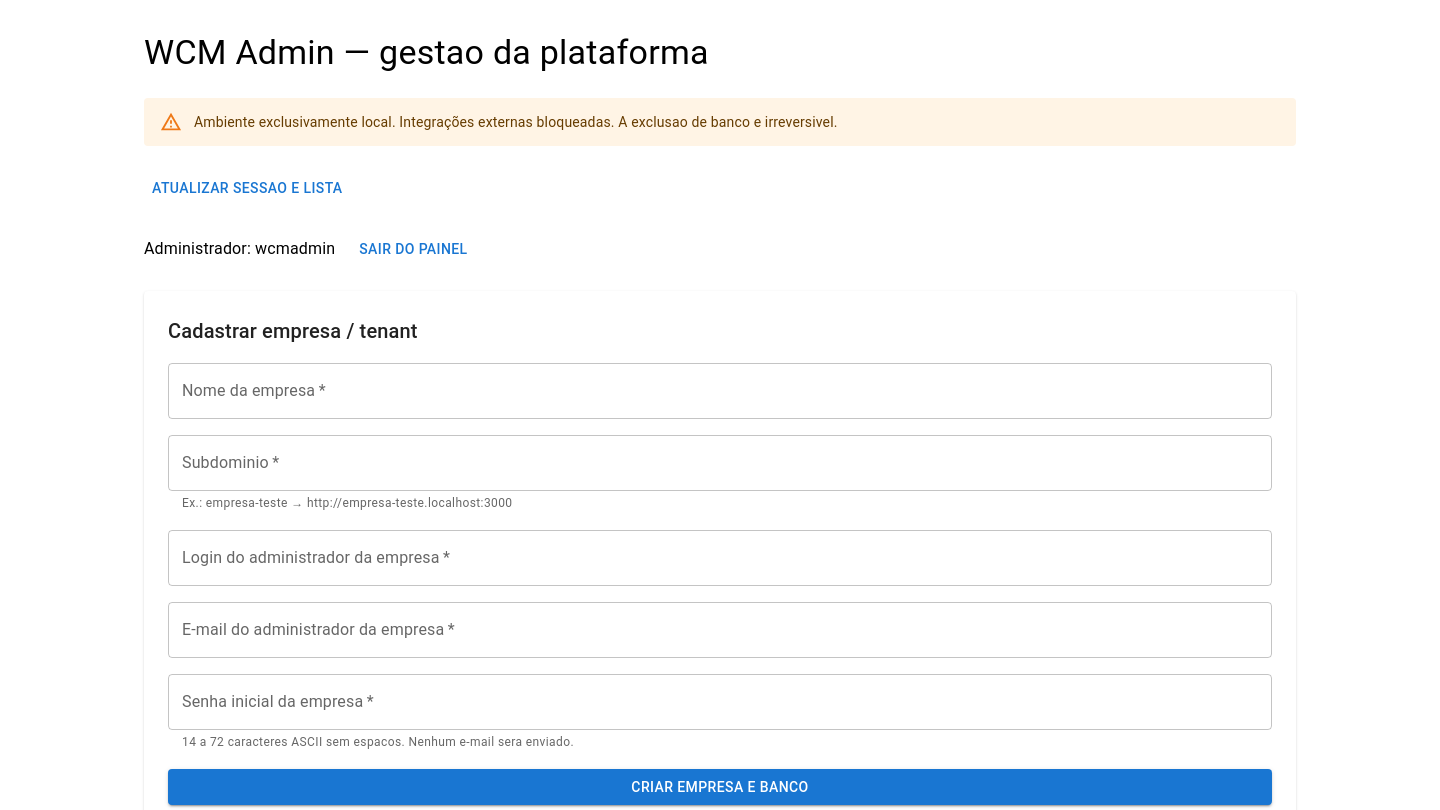
it: creates a tenant and sends its initial administrator without a tenant JWT
Expected: the button "Criar empresa e banco" is shown, x1=168 y1=769 x2=1272 y2=805
In the field labelled "Nome da empresa *": {"x": 720, "y": 391} x1=168 y1=363 x2=1272 y2=419, type "Nova Empresa"
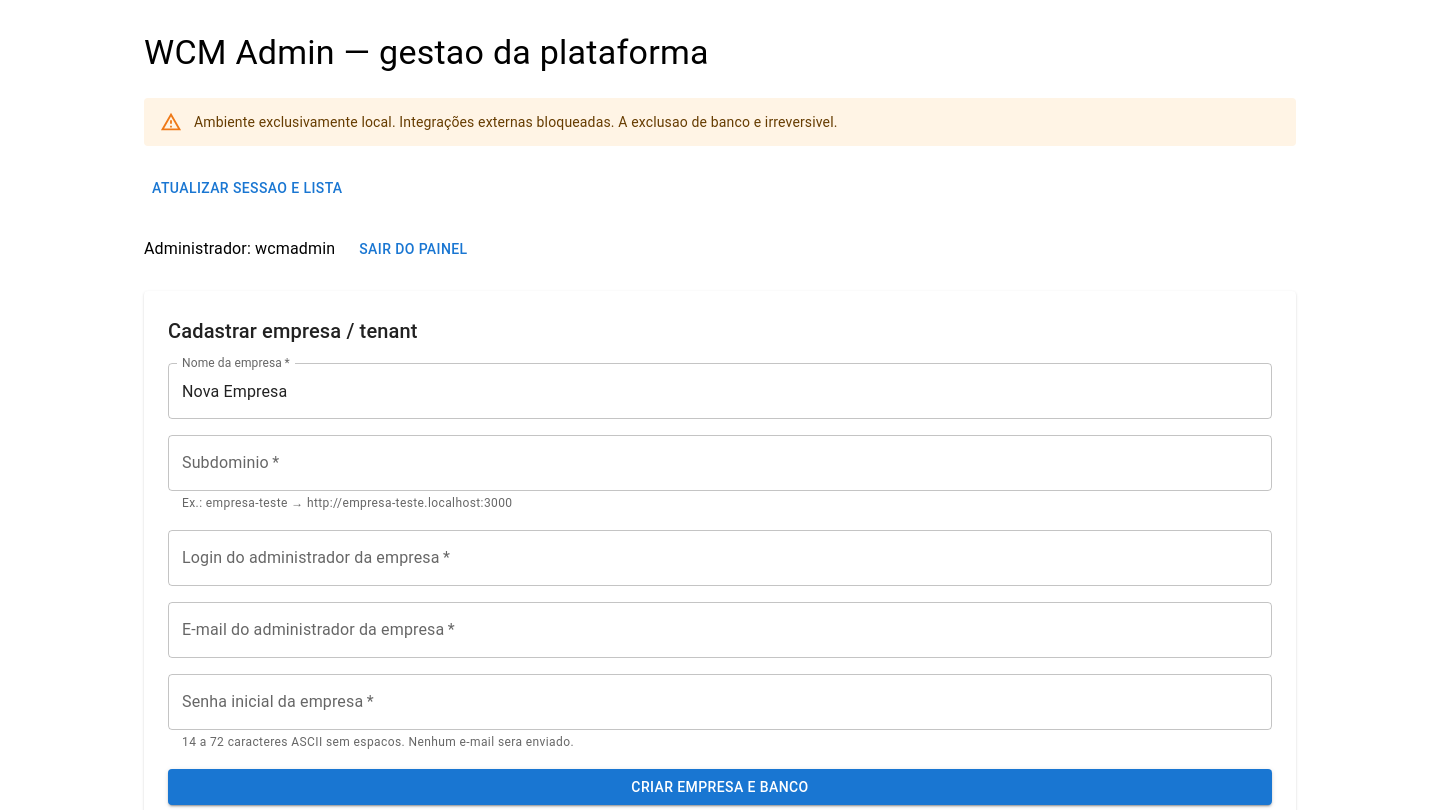
In the field labelled "Subdominio *": {"x": 720, "y": 463} x1=168 y1=435 x2=1272 y2=491, type "nova-empresa"
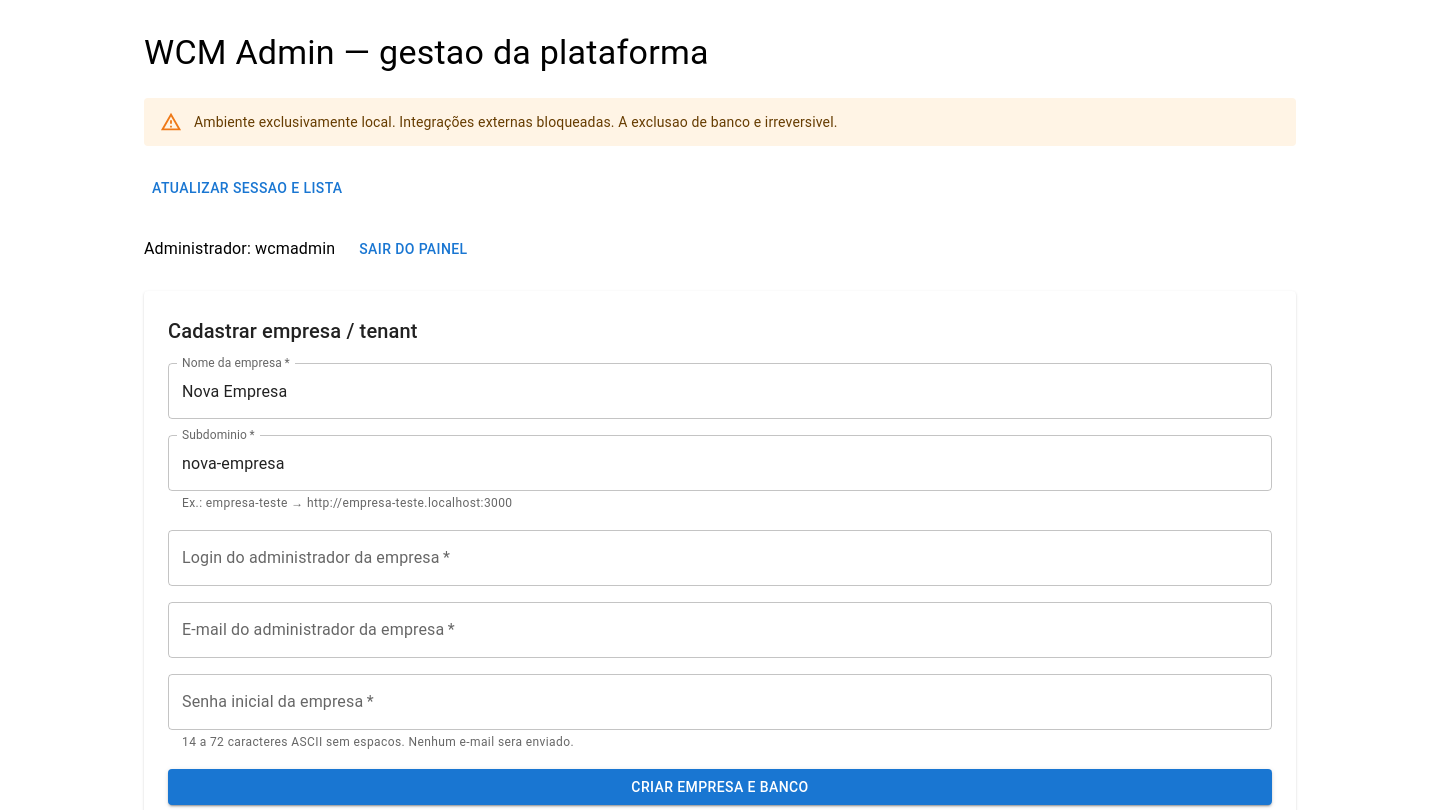
In the field labelled "Login do administrador da empresa *": {"x": 720, "y": 558} x1=168 y1=530 x2=1272 y2=586, type "gestor"
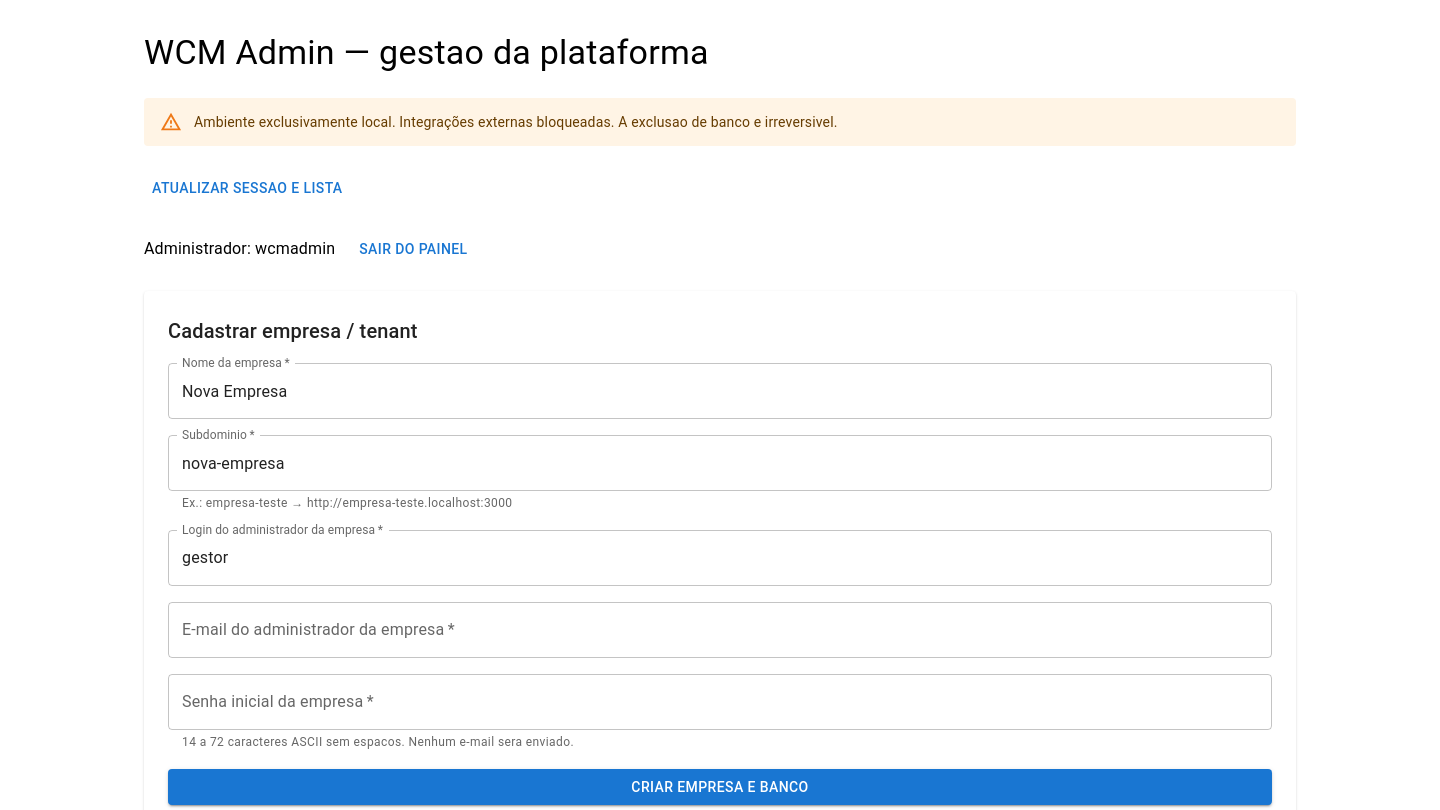
In the field labelled "E-mail do administrador da empresa *": {"x": 720, "y": 630} x1=168 y1=602 x2=1272 y2=658, type "gestor@example.invalid"
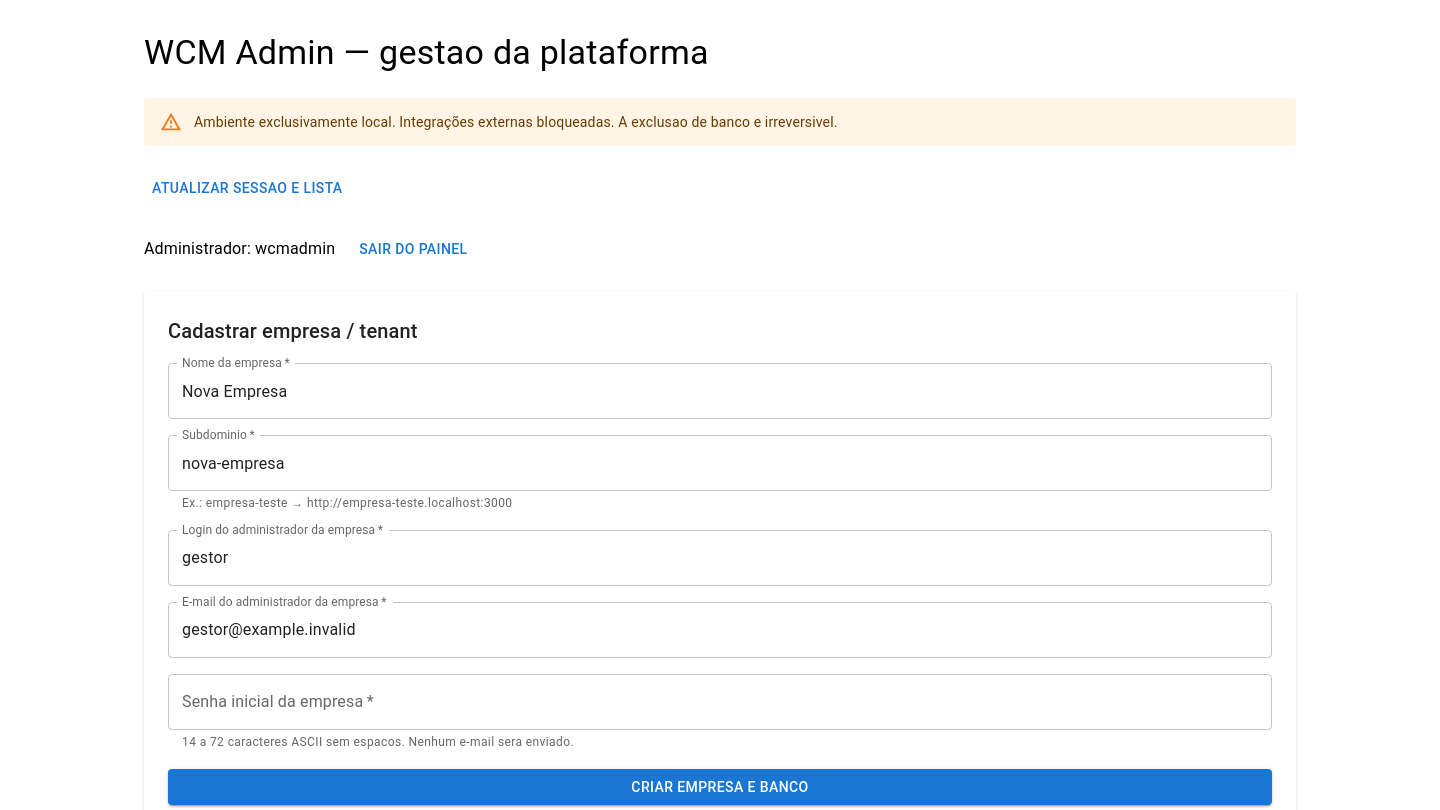
In the password field labelled "Senha inicial da empresa *": {"x": 720, "y": 702} x1=168 y1=674 x2=1272 y2=730, type "Senha-inicial-123!"
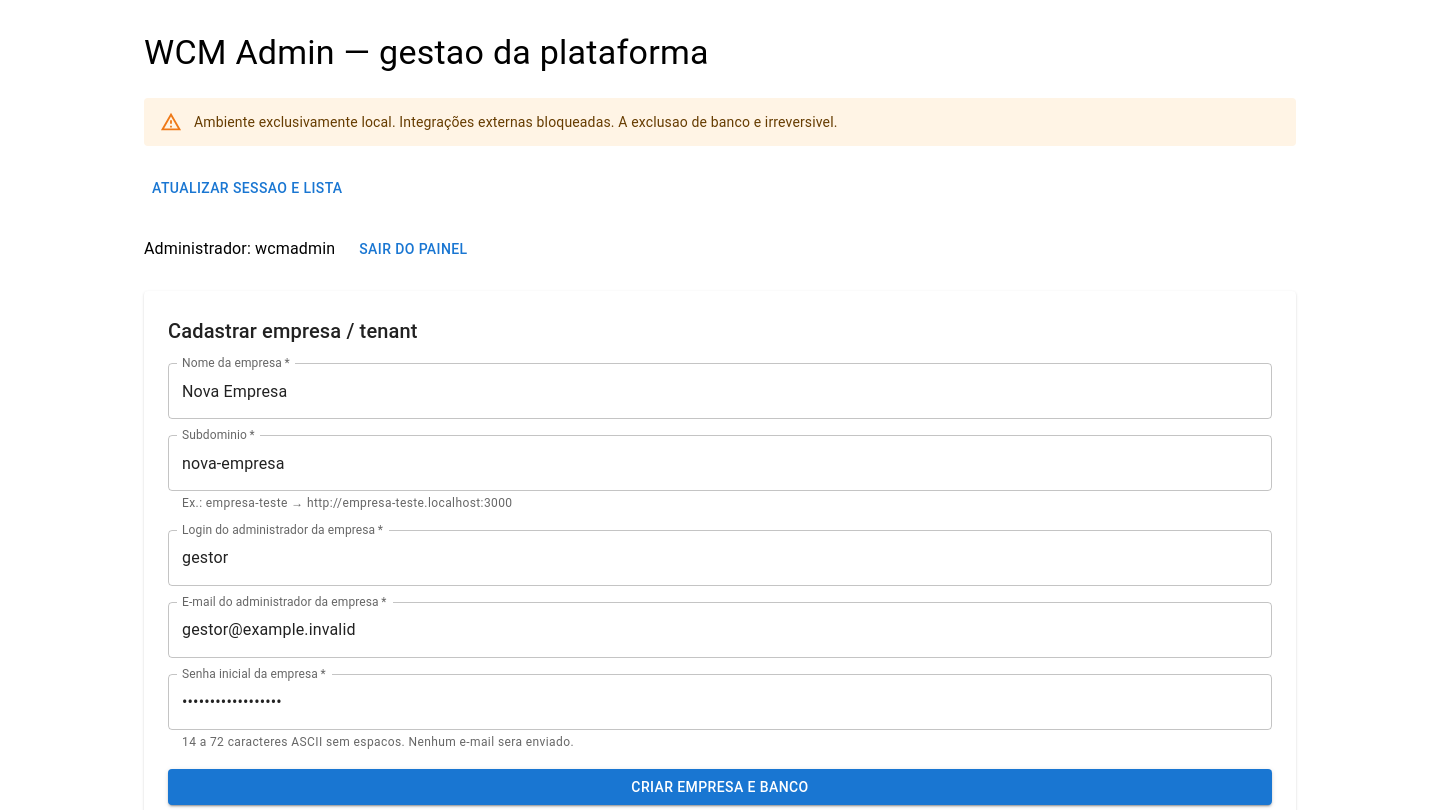
Click the button "Criar empresa e banco": {"x": 720, "y": 787} x1=168 y1=769 x2=1272 y2=805
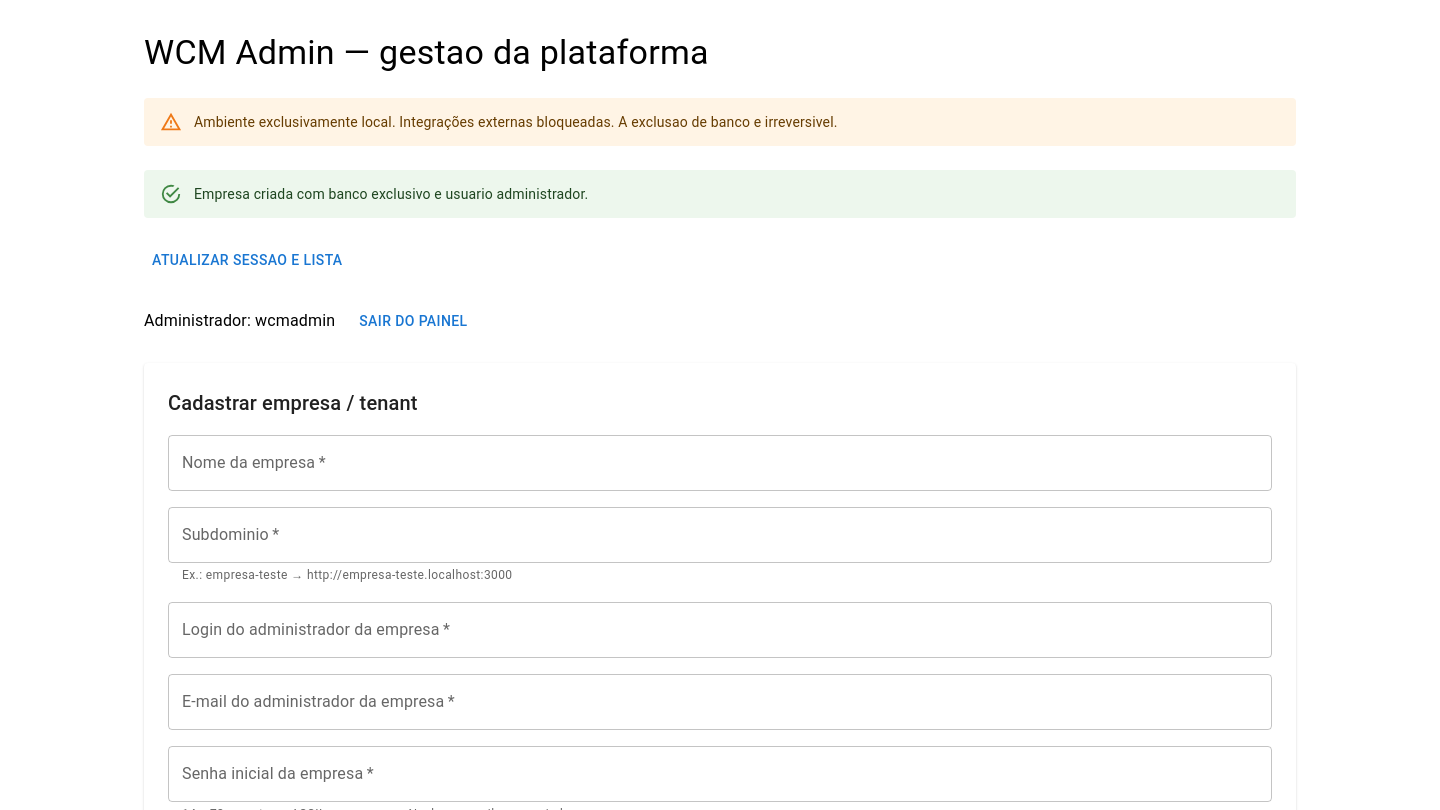
Expected: the text "Empresa criada com banco exclusivo e usuario administrador." is shown, x1=194 y1=186 x2=588 y2=202
